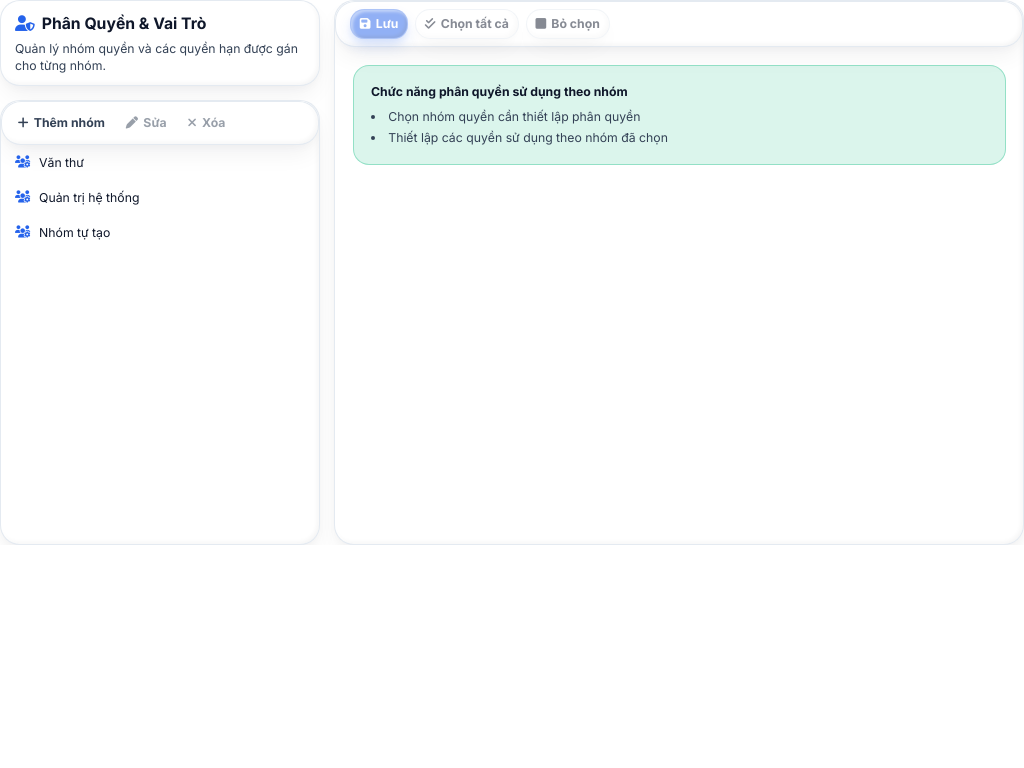
RolesPage (Issue #21) › creates a role with only its name
This screenshot has width=1024, height=768.
Click the button "Thêm nhóm": {"x": 61, "y": 123} [9,109,114,137]
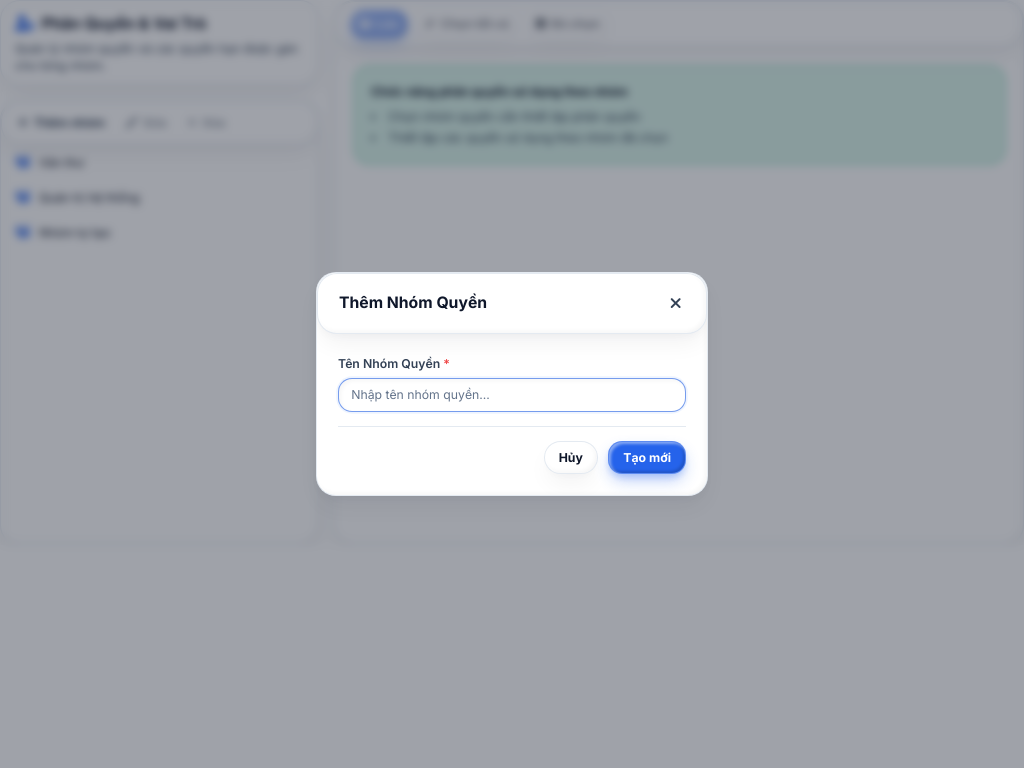
In the field with placeholder "Nhập tên nhóm quyền...": {"x": 512, "y": 395} [338,378,686,412], type "Nhóm mới"
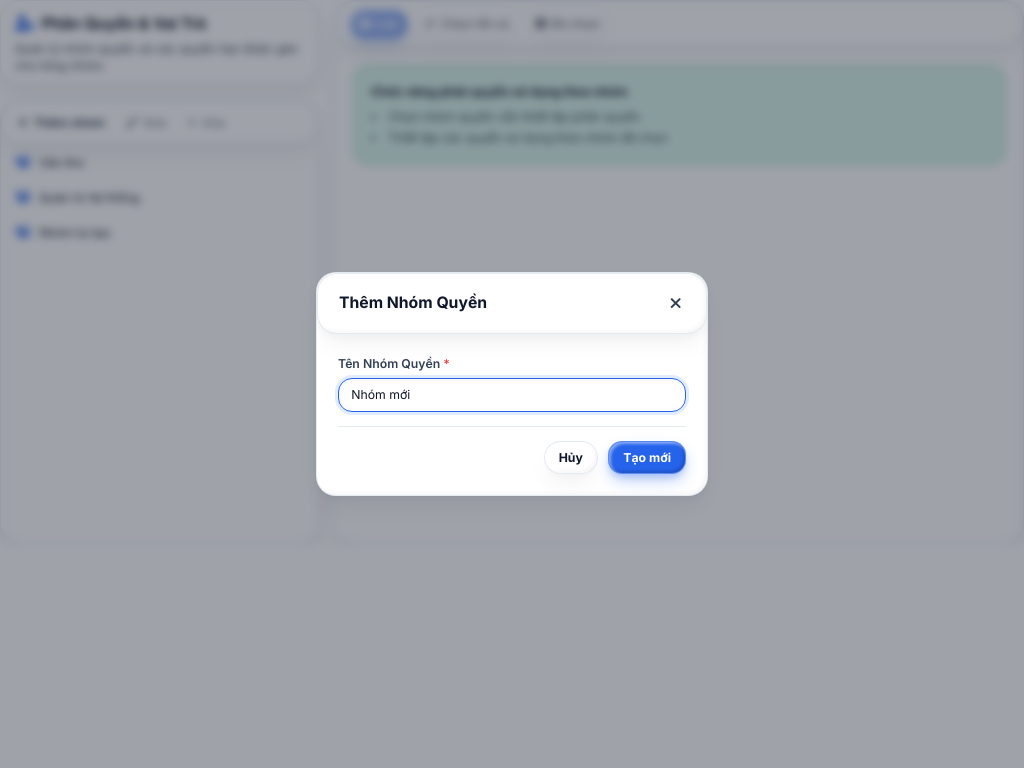
Click the button "Tạo mới": {"x": 647, "y": 457} [608,441,686,474]
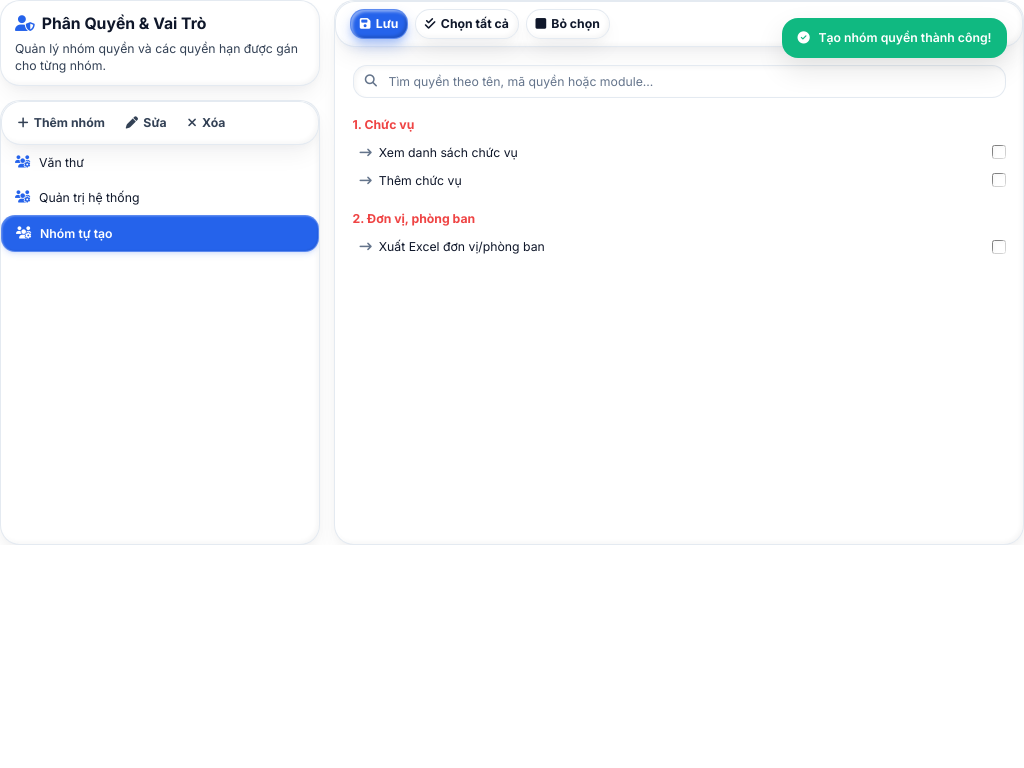
Result: the text "Tạo nhóm quyền thành công!" is shown at [782,18,1006,58]
